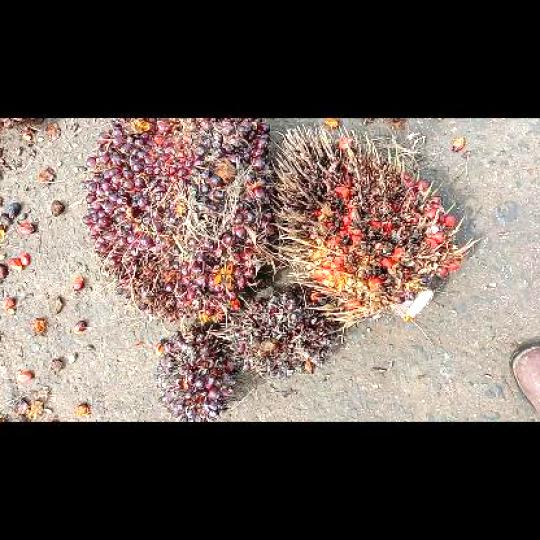masak: (79, 119, 279, 325)
terlalu masak: (272, 123, 463, 324)
